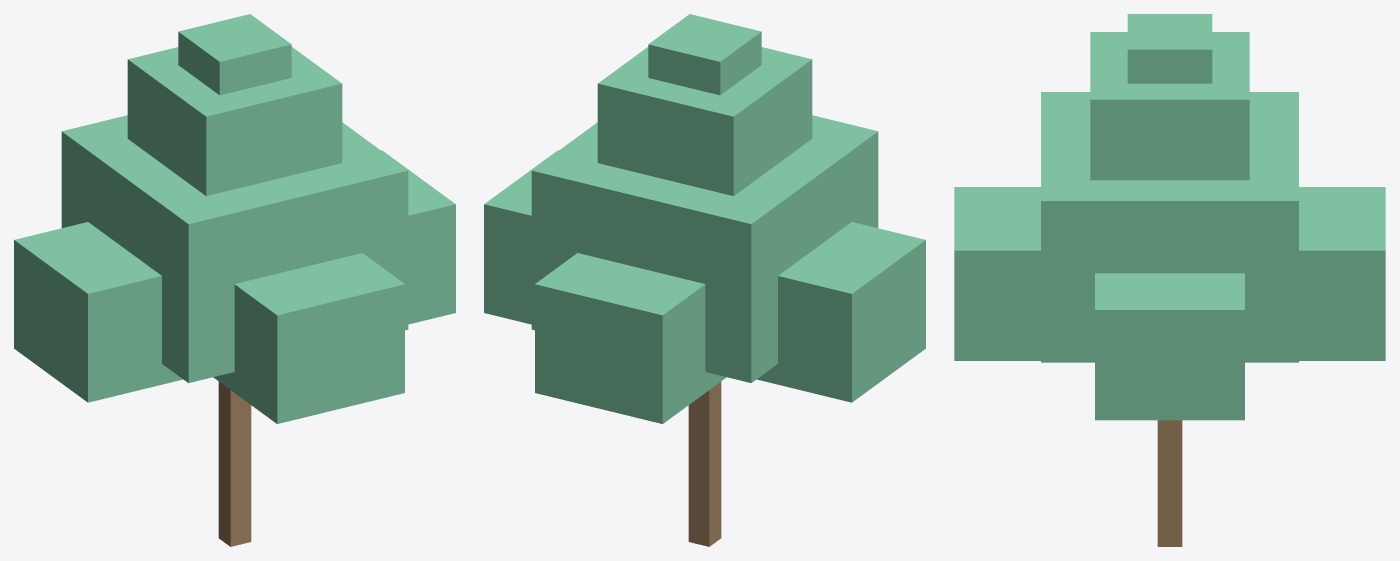
Rendered from Prop_DS_Tree_15.glb.
3 views of the same model, side by side, from view 1: azimuth 30°, elevation 25°; view 2: azimuth 150°, elevation 25°; view 3: azimuth 270°, elevation 25° (orthographic).
Visible parts, largest first — view 1: Prop_DS_Tree_15; view 2: Prop_DS_Tree_15; view 3: Prop_DS_Tree_15.
Part boxes in pixels (box(x1,y1,x2,y2)): Prop_DS_Tree_15: box(14, 14, 455, 546); Prop_DS_Tree_15: box(484, 14, 925, 546); Prop_DS_Tree_15: box(954, 14, 1385, 546).
Size of the model in its own units: 5.29 by 6.9 by 5.29.
